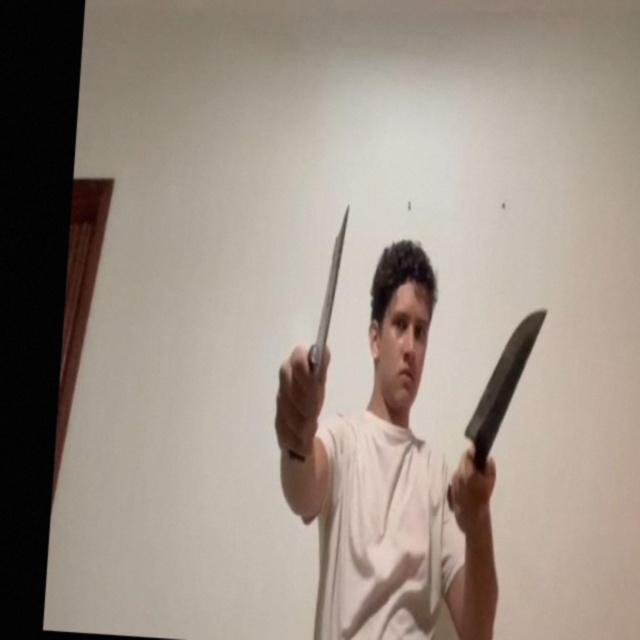Sharp-Object: (464, 304, 548, 448), (308, 201, 351, 389)
